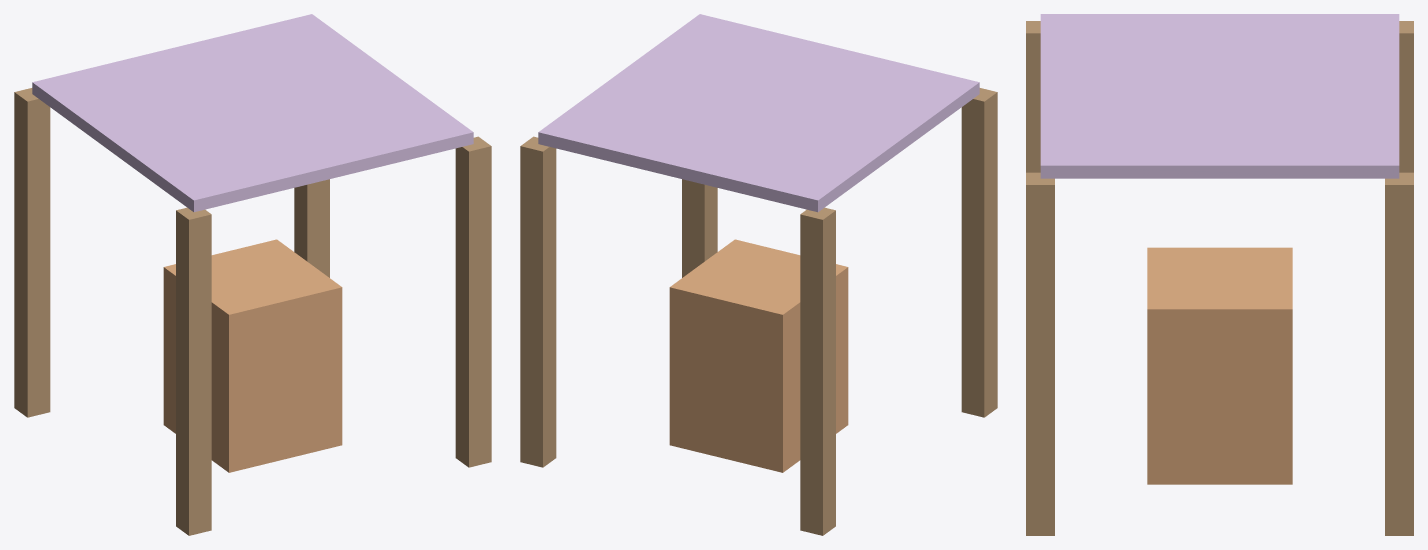
File: Prop_Water_AMF_RainCatcher_V3.glb
3 views of the same model, side by side, from view 1: azimuth 30°, elevation 25°; view 2: azimuth 150°, elevation 25°; view 3: azimuth 270°, elevation 25° (orthographic). The views are drawn at different scales.
Parts seen in each view (by area): view 1: Prop_Water_AMF_RainCatcher_V3; view 2: Prop_Water_AMF_RainCatcher_V3; view 3: Prop_Water_AMF_RainCatcher_V3.
Part boxes in pixels (box(x1,y1,x2,y2)): Prop_Water_AMF_RainCatcher_V3: box(14, 14, 491, 535); Prop_Water_AMF_RainCatcher_V3: box(520, 14, 997, 535); Prop_Water_AMF_RainCatcher_V3: box(1026, 14, 1413, 535).
Size of the model in its own units: 1.6 by 1.66 by 1.6.
